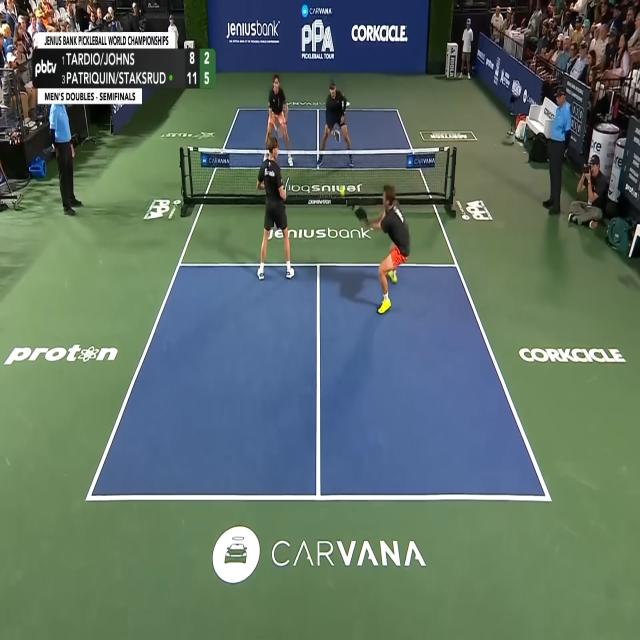ball: (339, 186, 345, 197)
